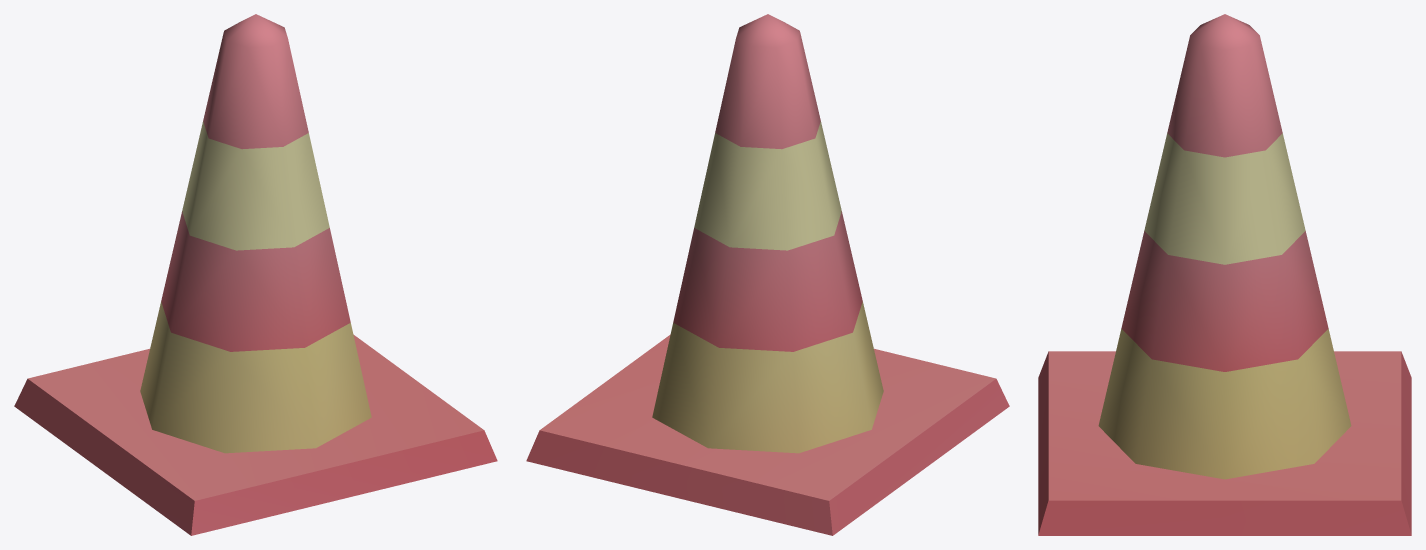
3 views of the same model, side by side, from view 1: azimuth 30°, elevation 25°; view 2: azimuth 150°, elevation 25°; view 3: azimuth 270°, elevation 25° (orthographic). The views are drawn at different scales.
Parts seen in each view (by area): view 1: cone; view 2: cone; view 3: cone.
Part boxes in pixels (bbox=[...]): cone: bbox=[14, 14, 497, 535]; cone: bbox=[526, 14, 1009, 535]; cone: bbox=[1038, 14, 1411, 535].
Bounding box in the file's own units: 0.11 × 0.1439 × 0.11.
